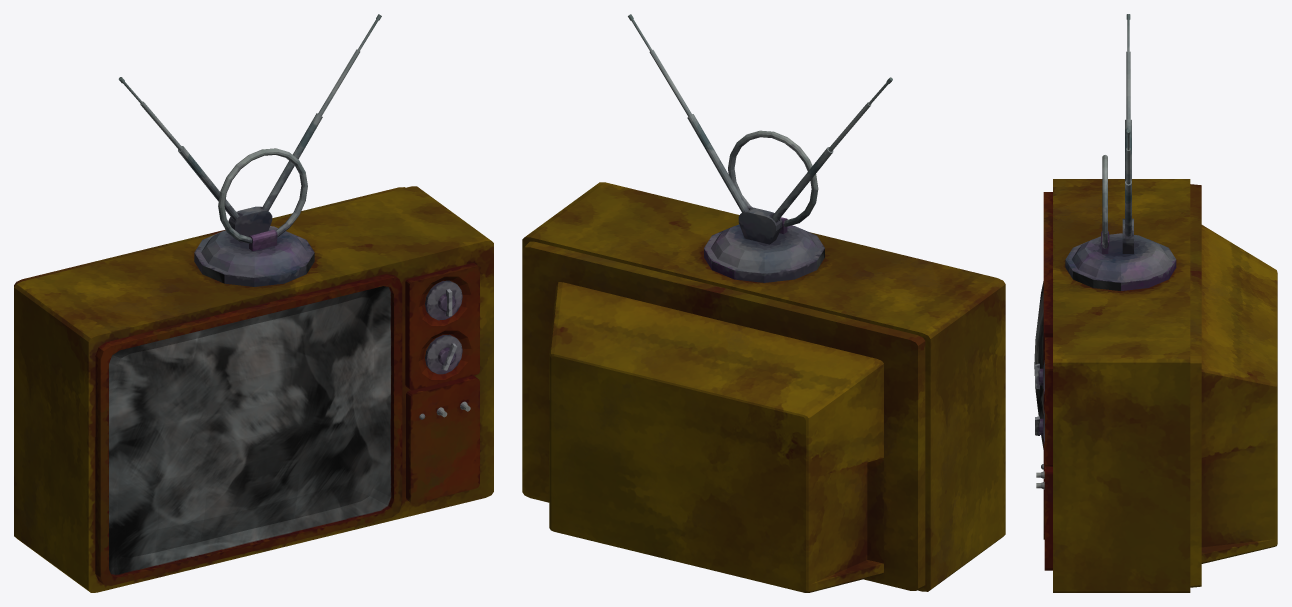
3 views of the same model, side by side, from view 1: azimuth 30°, elevation 25°; view 2: azimuth 150°, elevation 25°; view 3: azimuth 270°, elevation 25° (orthographic). The views are drawn at different scales.
Visible parts, largest first — view 1: OldTV_Low; view 2: OldTV_Low; view 3: OldTV_Low.
Part boxes in pixels (x1,y1,x2,y2): OldTV_Low: (14, 14, 493, 592); OldTV_Low: (522, 14, 1005, 592); OldTV_Low: (1034, 14, 1277, 592).
Size of the model in its own units: 95.27 by 106 by 53.81.
1 material, 1 textured.
